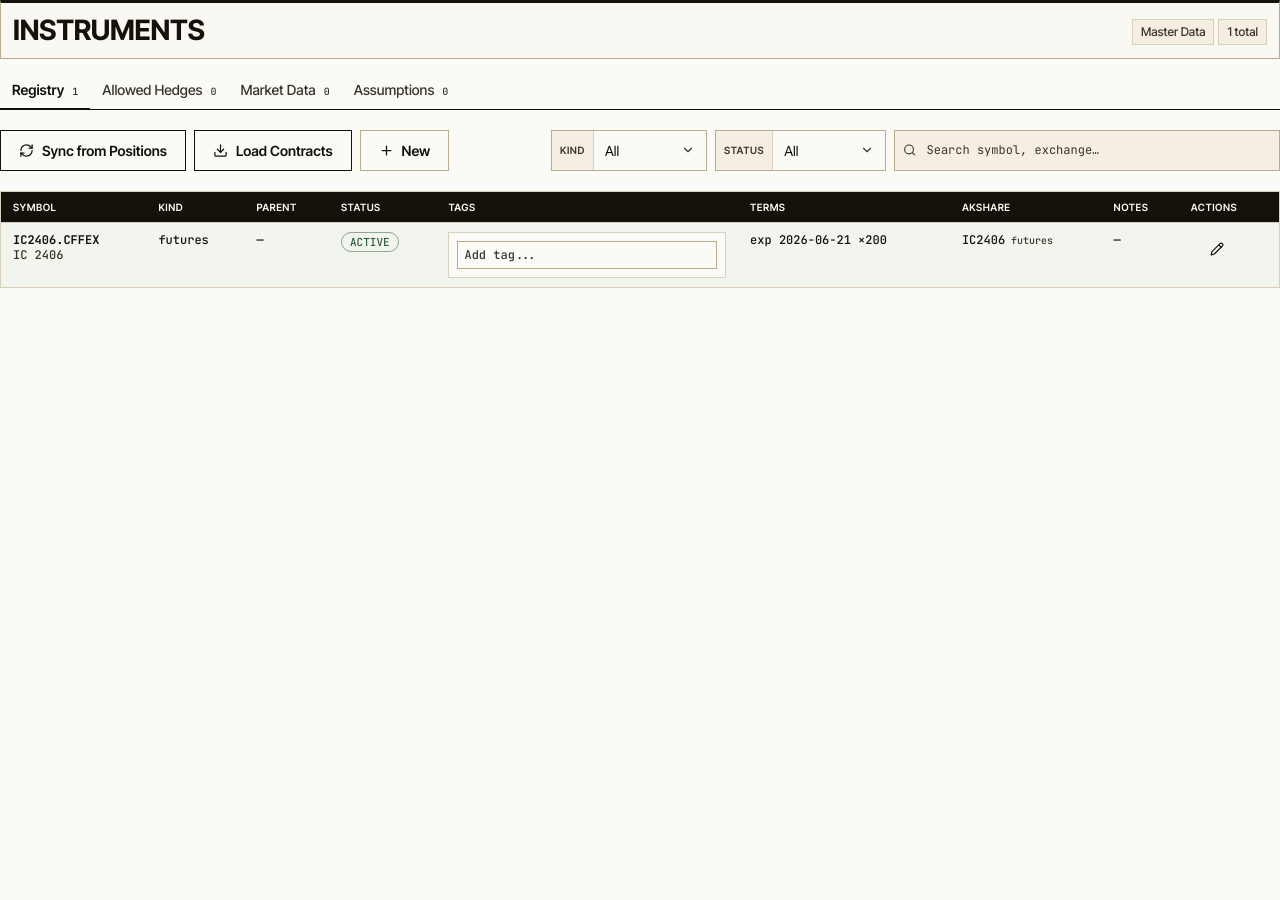
Test: Instruments › new instrument button opens the create dialog
Click the button with aria-label "new instrument" at (404, 150), box [360,130,449,171]
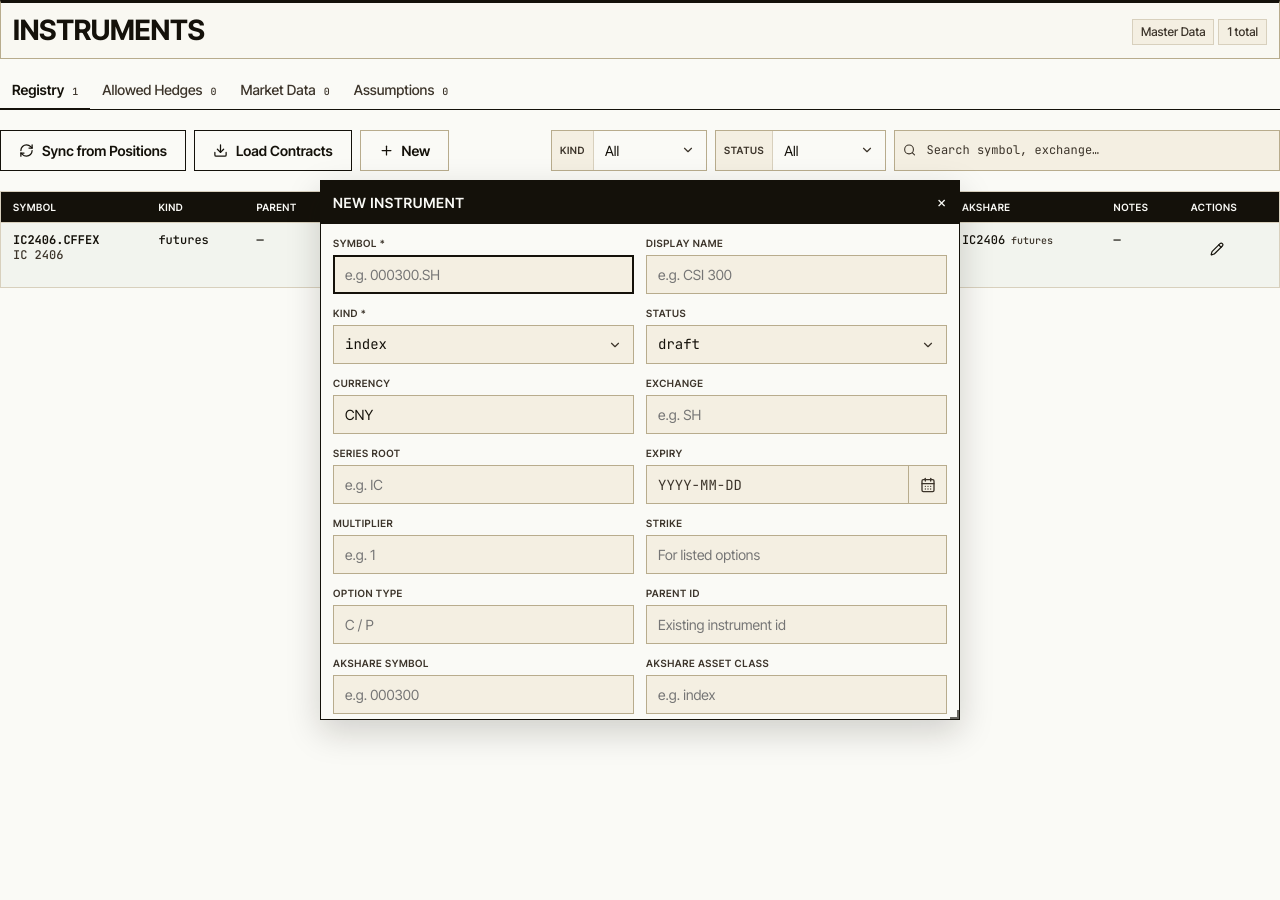
Check: the heading "NEW INSTRUMENT" is shown, box [333,192,465,213]
